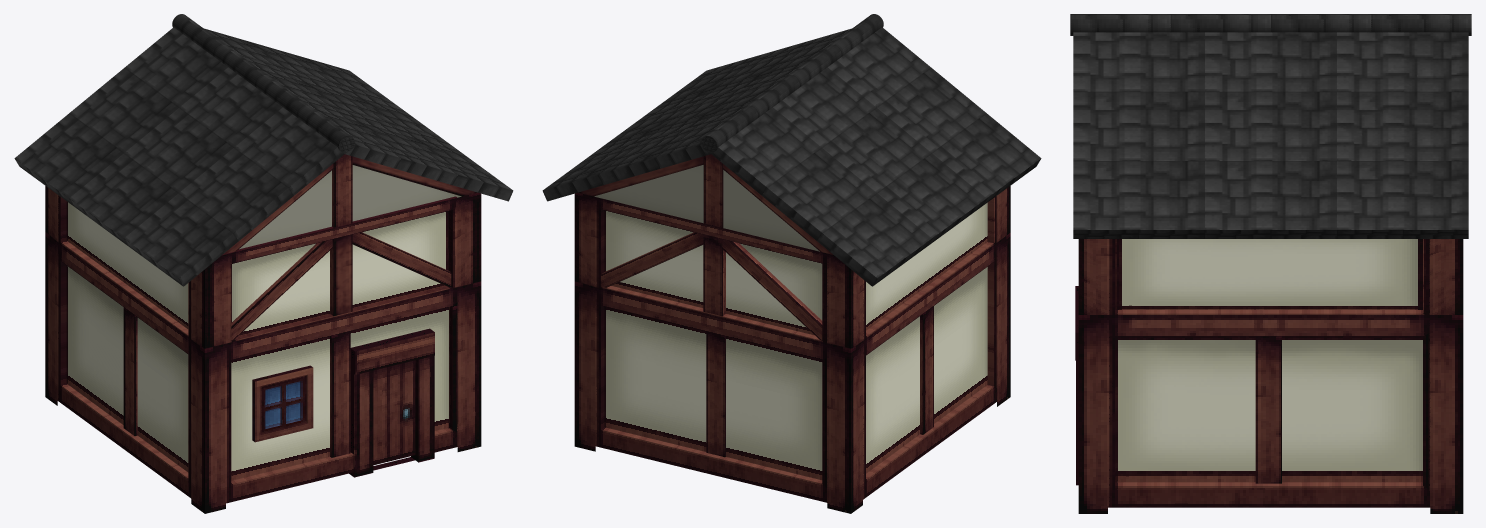
The model's file is house2-middle.glb.
3 renders of one model, left to right at view 1: azimuth 30°, elevation 25°; view 2: azimuth 150°, elevation 25°; view 3: azimuth 270°, elevation 25°, orthographic. The views are drawn at different scales.
Visible parts, largest first — view 1: Plane.005, Walls, Walls.001, door, Plane.002, Plane.004, Cylinder, Cube.002, Cube.006, Cube.005, Cube.008, Cube.007 (+3 smaller); view 2: Walls, Plane.005, Walls.001, Plane.001, Cylinder, Cube.003, Cube.013, Cube.012, Cube.005, Cube.011, Cube.001, Cube.014 (+1 smaller); view 3: Plane.005, Walls, Walls.001, Cylinder, Cube.004, door.
Part boxes in pixels (<box>): Plane.005: <box>14,27,513,286</box>; Walls: <box>45,232,481,513</box>; Walls.001: <box>45,186,481,348</box>; door: <box>349,328,434,477</box>; Plane.002: <box>239,165,461,249</box>; Plane.004: <box>252,365,313,442</box>; Cylinder: <box>172,14,354,152</box>; Cube.002: <box>330,331,350,457</box>; Cube.006: <box>231,239,332,339</box>; Cube.005: <box>123,307,137,435</box>; Cube.008: <box>330,234,352,316</box>; Cube.007: <box>352,232,451,286</box>; Walls: <box>574,233,1010,513</box>; Plane.005: <box>542,27,1041,286</box>; Walls.001: <box>574,186,1010,348</box>; Plane.001: <box>594,165,819,251</box>; Cylinder: <box>701,14,883,152</box>; Cube.003: <box>706,331,725,457</box>; Cube.013: <box>709,225,822,340</box>; Cube.012: <box>601,225,716,287</box>; Cube.005: <box>920,306,933,434</box>; Cube.011: <box>703,237,725,316</box>; Cube.001: <box>703,154,723,227</box>; Cube.014: <box>578,156,703,196</box>; Plane.005: <box>1073,32,1468,238</box>; Walls: <box>1078,315,1463,513</box>; Walls.001: <box>1078,239,1463,315</box>; Cylinder: <box>1070,14,1471,35</box>; Cube.004: <box>1255,336,1281,483</box>; door: <box>1075,286,1078,485</box>.
Size of the model in its own units: 4.24 by 4.2 by 3.66.
29 materials, 29 textured.
